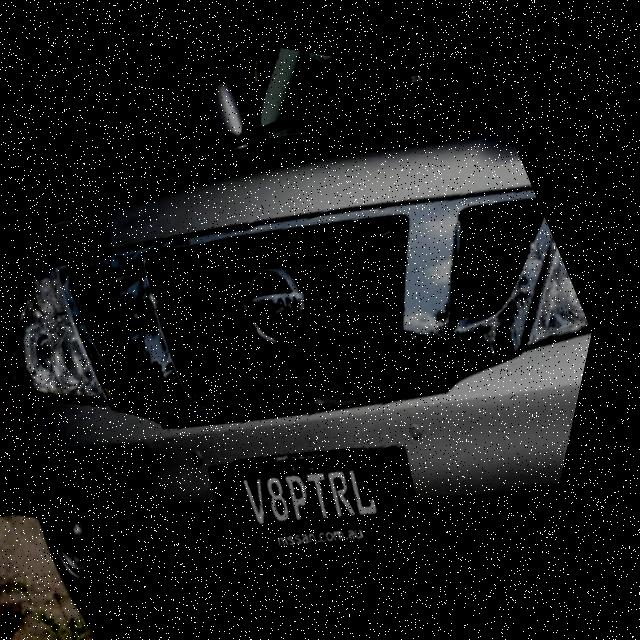license_plate: (221, 378, 442, 590)
